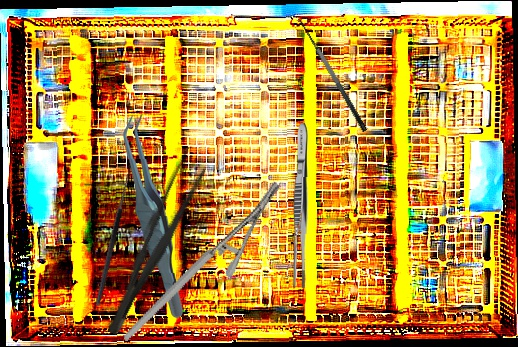Dressing Forceps: (97, 144, 214, 341), (291, 122, 311, 289)
Hook Surgical: (88, 167, 133, 306)
Needle Holder: (91, 179, 312, 342)
Spatula Surgical: (290, 15, 368, 138)
Tissue Forceps: (121, 112, 186, 320)
